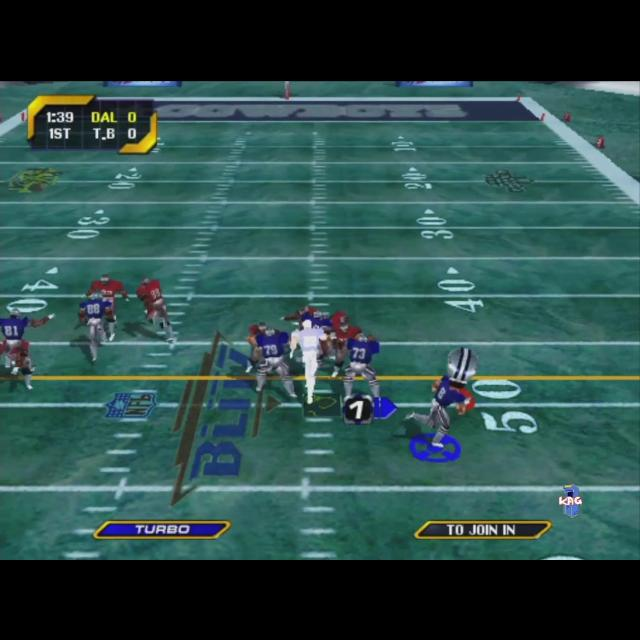player: (405, 347, 479, 448), (0, 307, 56, 373), (290, 320, 328, 404), (84, 274, 130, 340), (254, 327, 296, 398), (342, 332, 382, 404), (78, 290, 116, 362), (136, 276, 176, 344), (280, 304, 330, 356), (330, 314, 364, 376), (326, 309, 356, 365), (307, 309, 335, 361), (8, 338, 36, 389), (244, 320, 270, 372)
